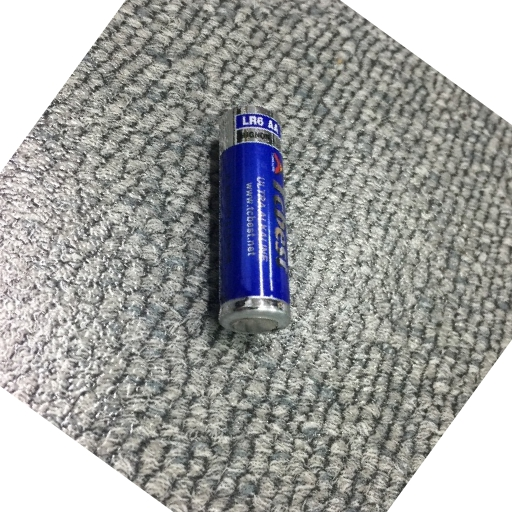Battery_0: (206, 95, 301, 344)
